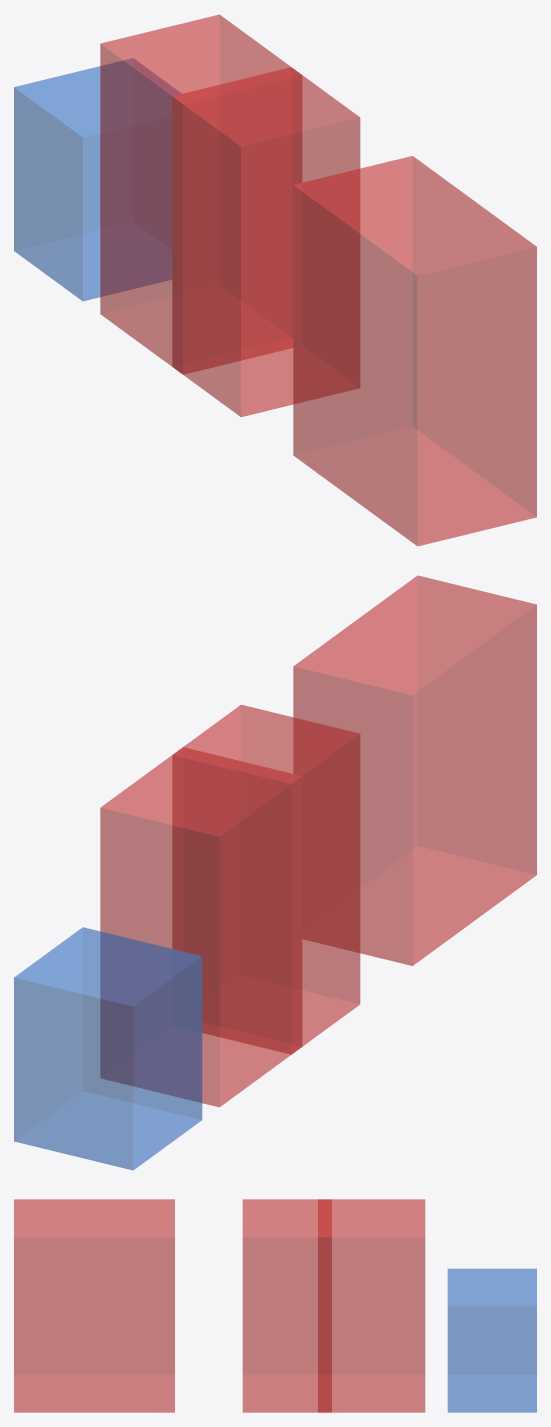
The model's file is home_07_zones.obj.
3 views of the same model, one above another, from view 1: azimuth 30°, elevation 25°; view 2: azimuth 150°, elevation 25°; view 3: azimuth 270°, elevation 25° (orthographic). The views are drawn at different scales.
Visible parts, largest first — view 1: meter_panel_working_space, inverter_vlld_wall_space, base_hub_wall_space, base_core_1_footprint; view 2: meter_panel_working_space, inverter_vlld_wall_space, base_hub_wall_space, base_core_1_footprint; view 3: meter_panel_working_space, inverter_vlld_wall_space, base_hub_wall_space, base_core_1_footprint.
Boxes of the visible parts, x1,y1,x2,y2 form: meter_panel_working_space: (293,156,536,546); inverter_vlld_wall_space: (100,14,301,374); base_hub_wall_space: (172,67,360,416); base_core_1_footprint: (14,58,181,301); meter_panel_working_space: (293,575,536,965); inverter_vlld_wall_space: (100,747,301,1107); base_hub_wall_space: (172,704,360,1054); base_core_1_footprint: (14,927,202,1170); meter_panel_working_space: (14,1199,174,1412); inverter_vlld_wall_space: (318,1199,425,1412); base_hub_wall_space: (242,1199,331,1412); base_core_1_footprint: (447,1268,536,1412).
Bounding box in the file's own units: 0.9144 × 1.98 × 5.36.
